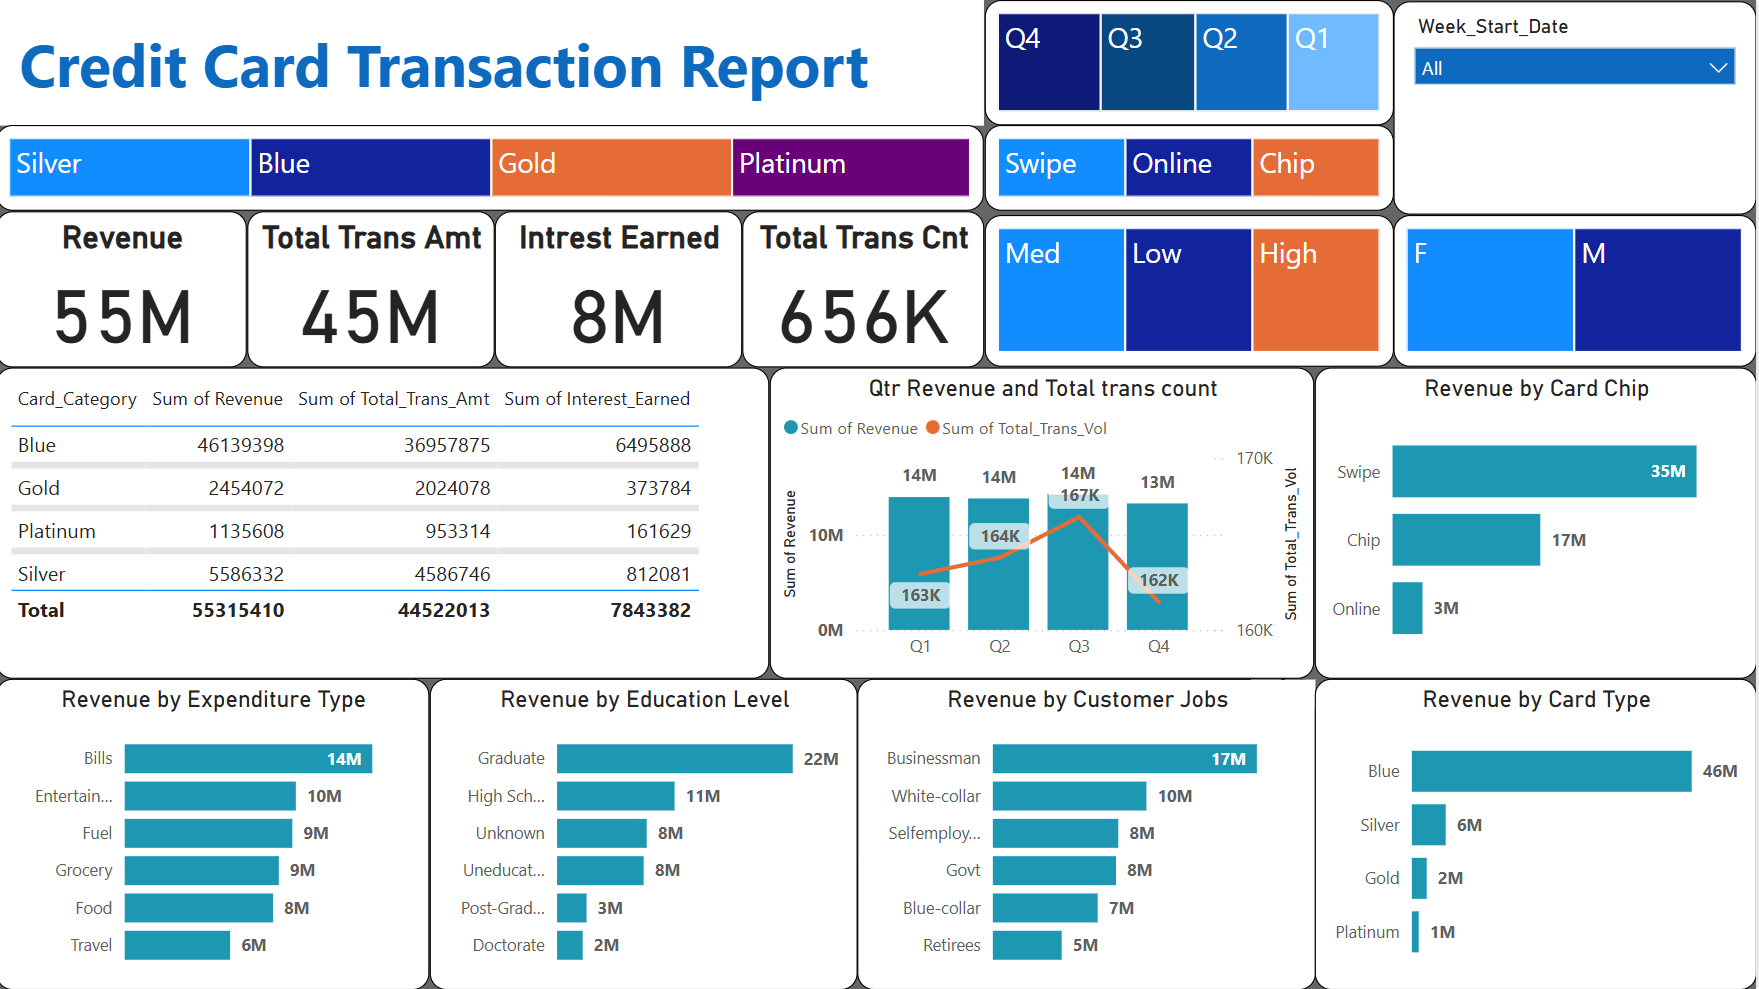

This screenshot's page, from the dashboard's own definition file:
{"tool":"powerbi","page":{"name":"Page 1","canvas":[1280,720],"ordinal":0},"visuals":[{"type":"textbox","box":[0,0,718.8,91.2],"z":0},{"type":"lineStackedColumnComboChart","title":"Qtr Revenue and Total trans count","fields":{"Category":["credit_card.Qtr"],"Y":["Sum(credit_card.Revenue)"],"Y2":["Sum(credit_card.Total_Trans_Vol)"]},"box":[562.5,267.5,396.2,226.2],"z":1000},{"type":"barChart","title":"Revenue by Expenditure Type","fields":{"Y":["Sum(credit_card.Revenue)"],"Category":["credit_card.Exp Type"]},"box":[0,493.8,315,226.2],"z":2000},{"type":"barChart","title":"Revenue by Education Level","fields":{"Y":["Sum(credit_card.Revenue)"],"Category":["customer.Education_Level"]},"box":[315,493.8,311.2,226.2],"z":3000},{"type":"barChart","title":"Revenue by Customer Jobs ","fields":{"Y":["Sum(credit_card.Revenue)"],"Category":["customer.Customer_Job"]},"box":[626.2,493.8,333.8,226.2],"z":4000},{"type":"barChart","title":"Revenue by Card Type","fields":{"Y":["Sum(credit_card.Revenue)"],"Category":["credit_card.Card_Category"]},"box":[958.8,493.8,321.2,226.2],"z":5000},{"type":"barChart","title":"Revenue by Card Chip","fields":{"Y":["Sum(credit_card.Revenue)"],"Category":["credit_card.Use Chip"]},"box":[958.8,267.5,321.2,226.2],"z":6000},{"type":"tableEx","fields":{"Values":["credit_card.Card_Category","Sum(credit_card.Revenue)","Sum(credit_card.Total_Trans_Amt)","Sum(credit_card.Interest_Earned)"]},"box":[0,267.5,562.5,226.2],"z":7000},{"type":"card","title":"Revenue","fields":{"Values":["Sum(credit_card.Revenue)"]},"box":[0,153.8,182.5,113.8],"z":8000},{"type":"card","title":"Total Trans Amt","fields":{"Values":["Sum(credit_card.Total_Trans_Amt)"]},"box":[182.5,153.8,180,113.8],"z":9000},{"type":"card","title":"Intrest Earned","fields":{"Values":["Sum(credit_card.Interest_Earned)"]},"box":[362.5,153.8,180,113.8],"z":10000},{"type":"card","title":"Total Trans Cnt","fields":{"Values":["Sum(credit_card.Total_Trans_Vol)"]},"box":[542.5,153.8,176.2,113.8],"z":11000},{"type":"slicer","fields":{"Values":["credit_card.Week_Start_Date"]},"box":[1016.2,1.2,263.8,155],"z":12000},{"type":"treemap","fields":{"Group":["credit_card.Qtr"],"Values":["Avg(credit_card.Client_Num)"]},"box":[718.8,0,297.5,91.2],"z":13000},{"type":"treemap","fields":{"Values":["Avg(credit_card.Client_Num)"],"Group":["customer.Gender"]},"box":[1016.2,156.2,263.8,110],"z":14000},{"type":"treemap","fields":{"Values":["Avg(credit_card.Client_Num)"],"Group":["credit_card.Card_Category"]},"box":[0,91.2,718.8,62.5],"z":15000},{"type":"treemap","fields":{"Values":["Avg(credit_card.Client_Num)"],"Group":["customer.IncomeGroup"]},"box":[718.8,156.2,297.5,110],"z":16000},{"type":"treemap","fields":{"Values":["Avg(credit_card.Client_Num)"],"Group":["credit_card.Use Chip"]},"box":[718.8,91.2,297.5,62.5],"z":17000}]}

Visuals, with their boxes in screenshot pixels (x1, y1, x2, y2), scaled from the page's 1280x720 canvas onto the 1759x989 screenshot:
textbox: 0,0,988,125
"Qtr Revenue and Total trans count" lineStackedColumnComboChart: 773,367,1317,678
"Revenue by Expenditure Type" barChart: 0,678,433,988
"Revenue by Education Level" barChart: 433,678,861,988
"Revenue by Customer Jobs " barChart: 861,678,1319,988
"Revenue by Card Type" barChart: 1318,678,1758,988
"Revenue by Card Chip" barChart: 1318,367,1758,678
tableEx - credit_card.Card_Category x Sum(credit_card.Revenue): 0,367,773,678
"Revenue" card: 0,211,251,368
"Total Trans Amt" card: 251,211,498,368
"Intrest Earned" card: 498,211,746,368
"Total Trans Cnt" card: 746,211,988,368
slicer - credit_card.Week_Start_Date: 1396,2,1758,215
treemap - credit_card.Qtr x Avg(credit_card.Client_Num): 988,0,1397,125
treemap - Avg(credit_card.Client_Num) x customer.Gender: 1396,215,1758,366
treemap - Avg(credit_card.Client_Num) x credit_card.Card_Category: 0,125,988,211
treemap - Avg(credit_card.Client_Num) x customer.IncomeGroup: 988,215,1397,366
treemap - Avg(credit_card.Client_Num) x credit_card.Use Chip: 988,125,1397,211
